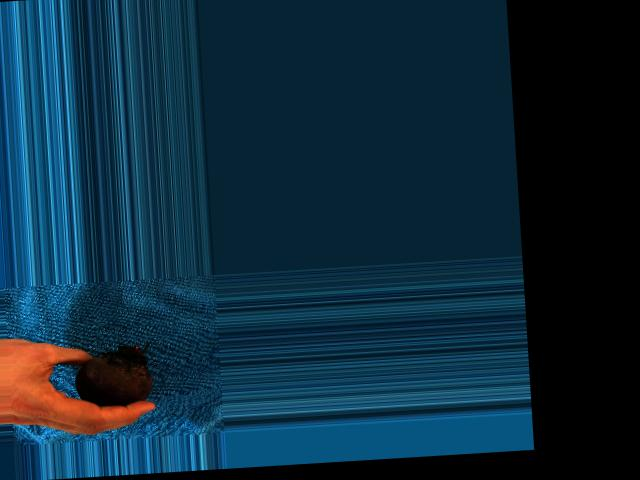beet: (74, 342, 153, 407)
